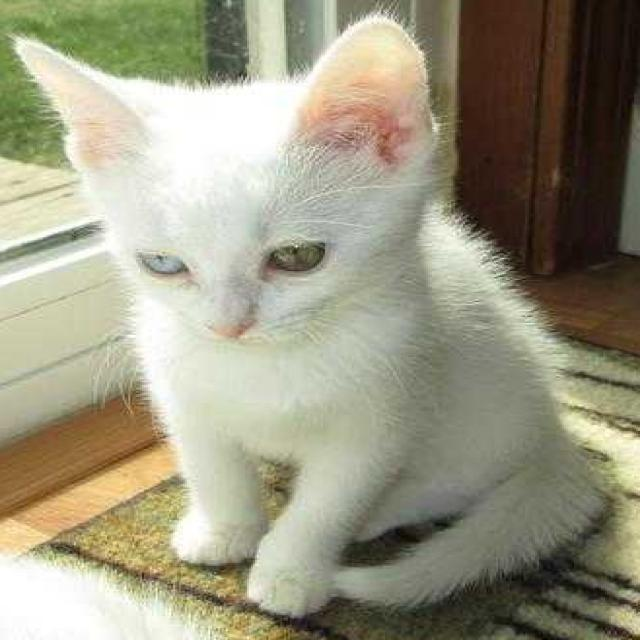Khao Manee: (6, 9, 619, 622)
